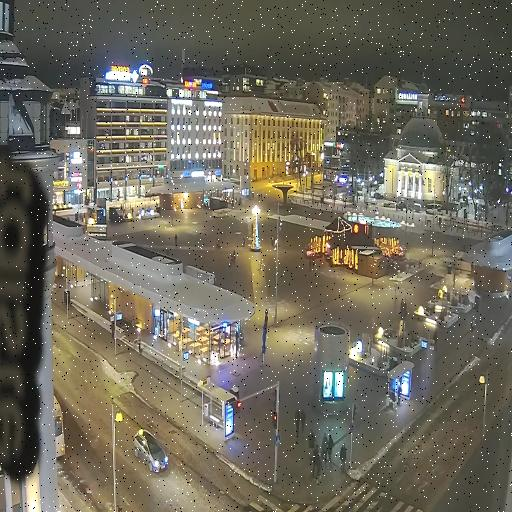Bus: (54, 395, 66, 456), (59, 435, 59, 435)
Car: (133, 429, 169, 473)
